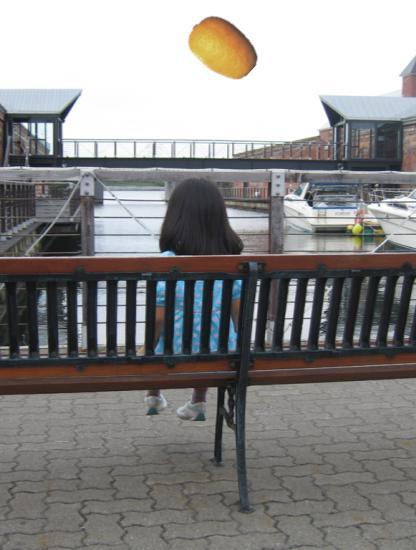Kumquats: (187, 12, 260, 85)
